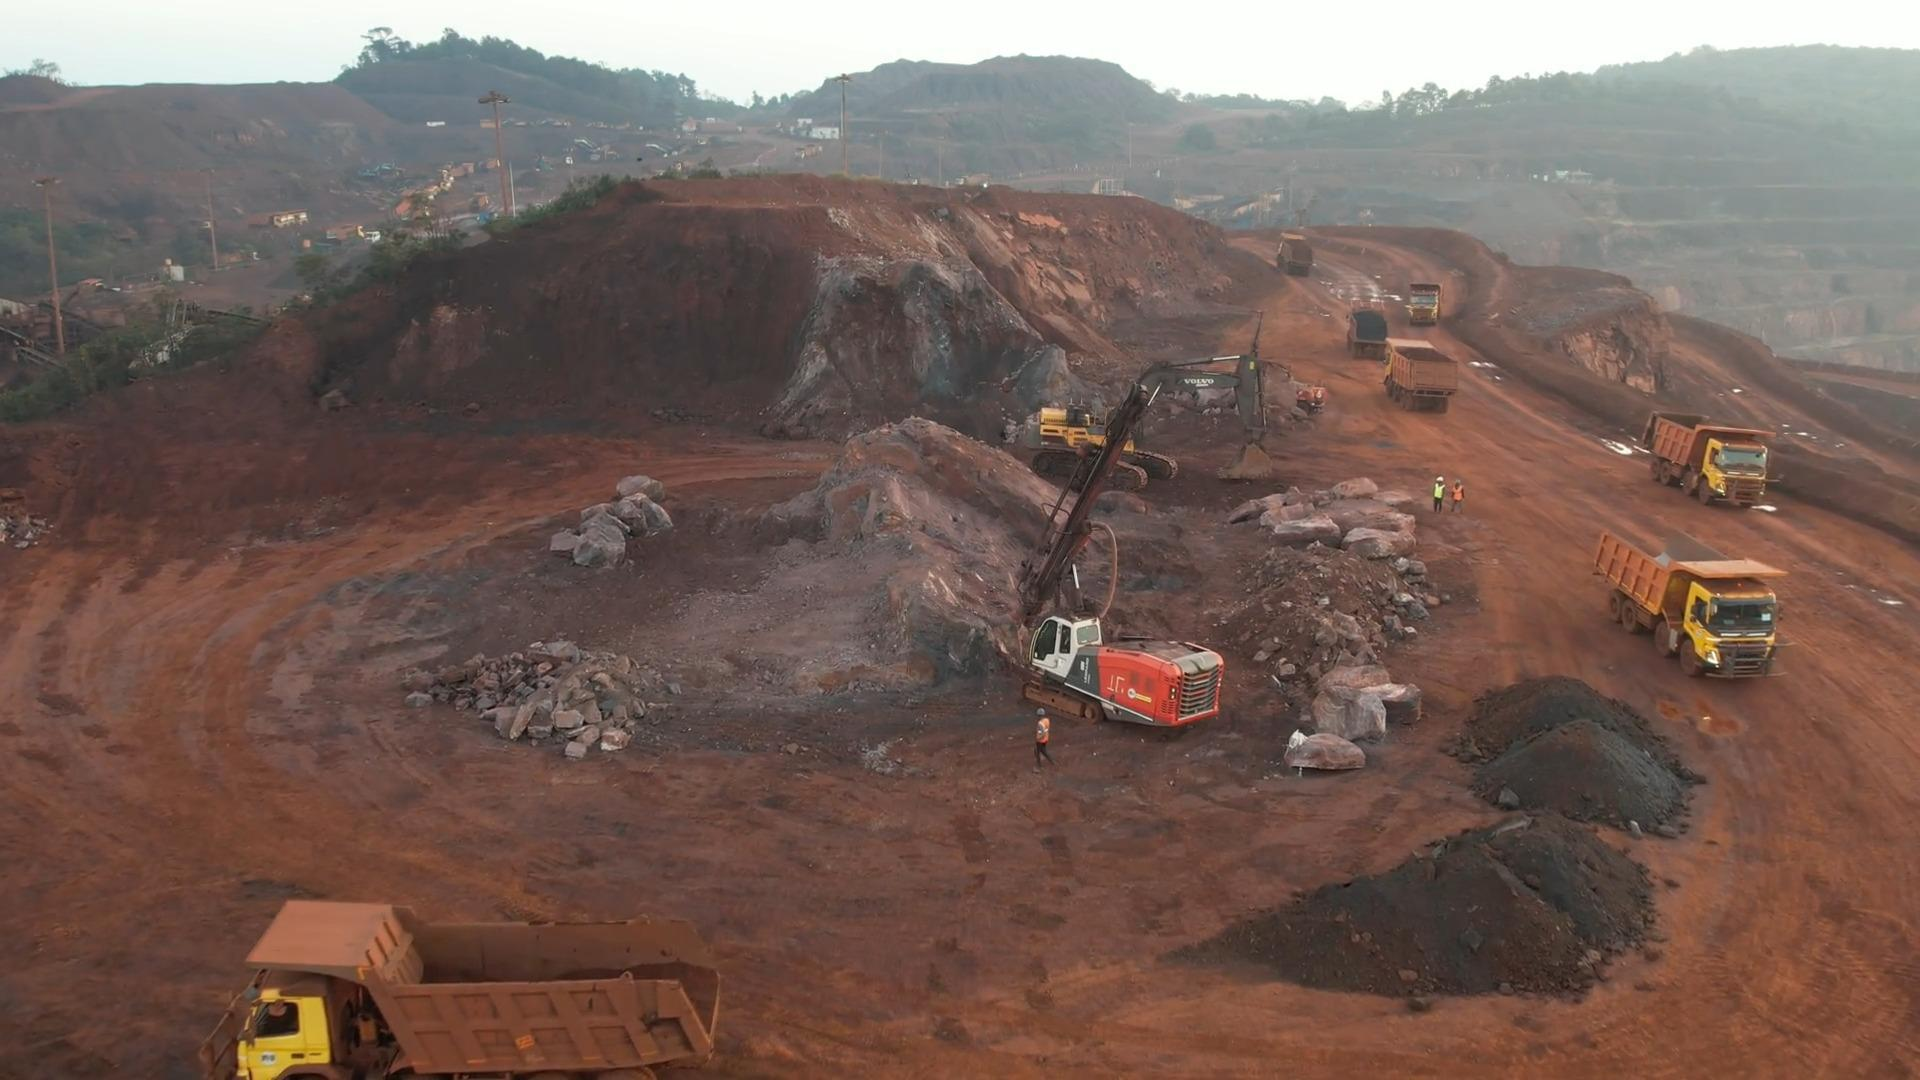excavator: (1038, 357, 1271, 476)
